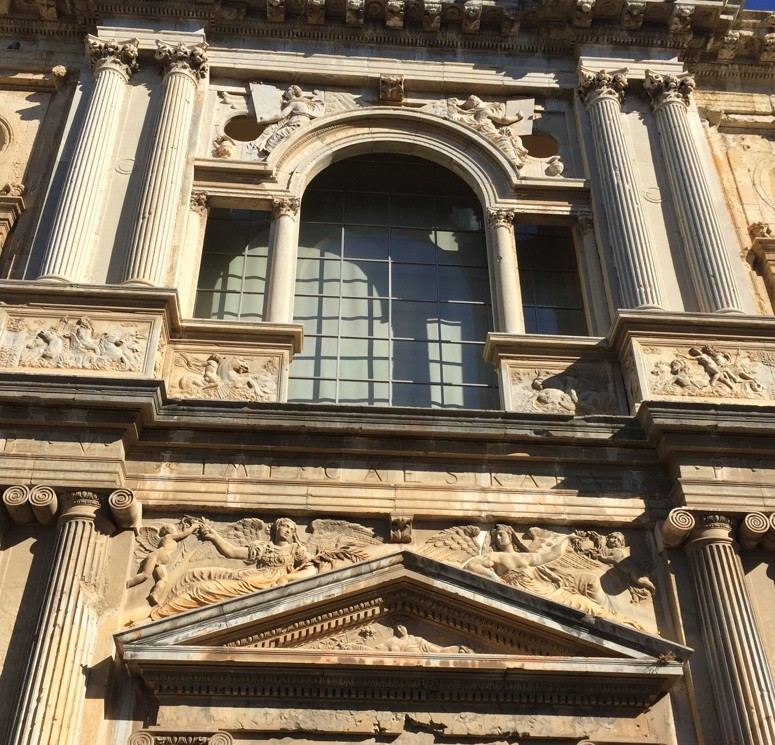arco-medio-punto: (285, 123, 501, 232)
fronton: (101, 548, 710, 693)
serliana: (173, 94, 612, 336)
